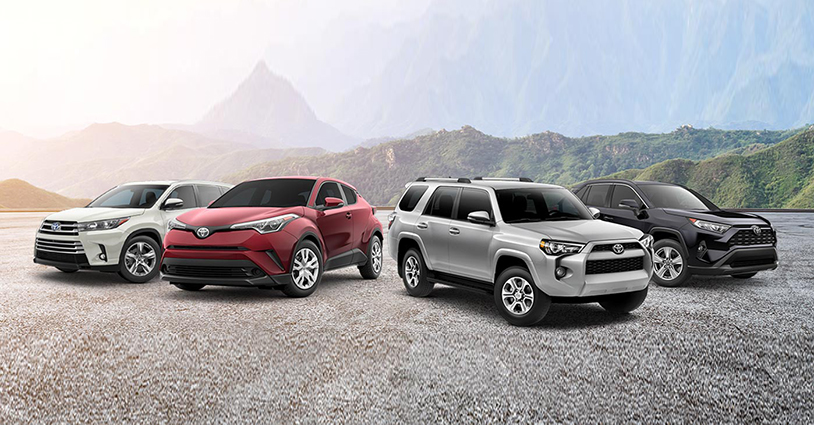car: (387, 176, 655, 327), (158, 176, 383, 299), (570, 177, 778, 286), (33, 181, 230, 284)
